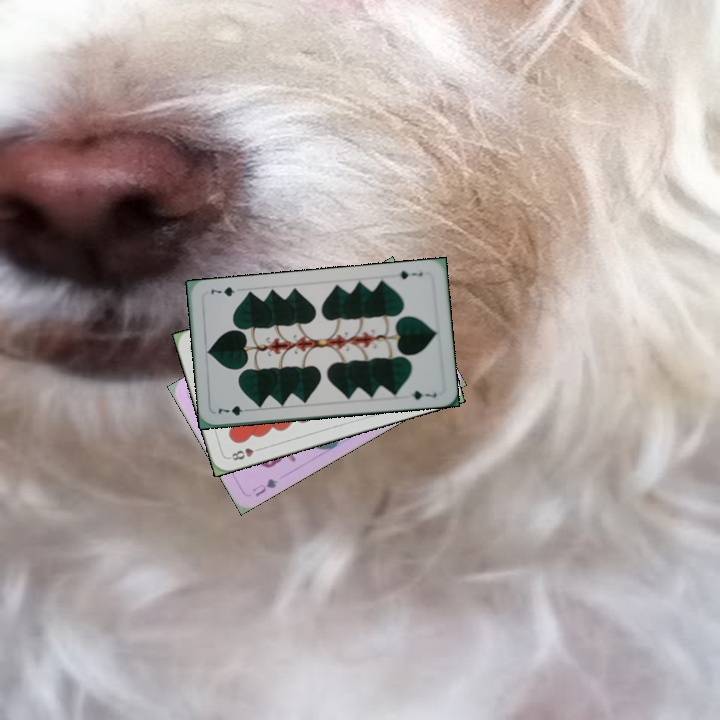G7: (214, 402, 254, 418), (395, 267, 425, 282)
GU: (249, 474, 280, 499)
H8: (225, 443, 265, 463)
